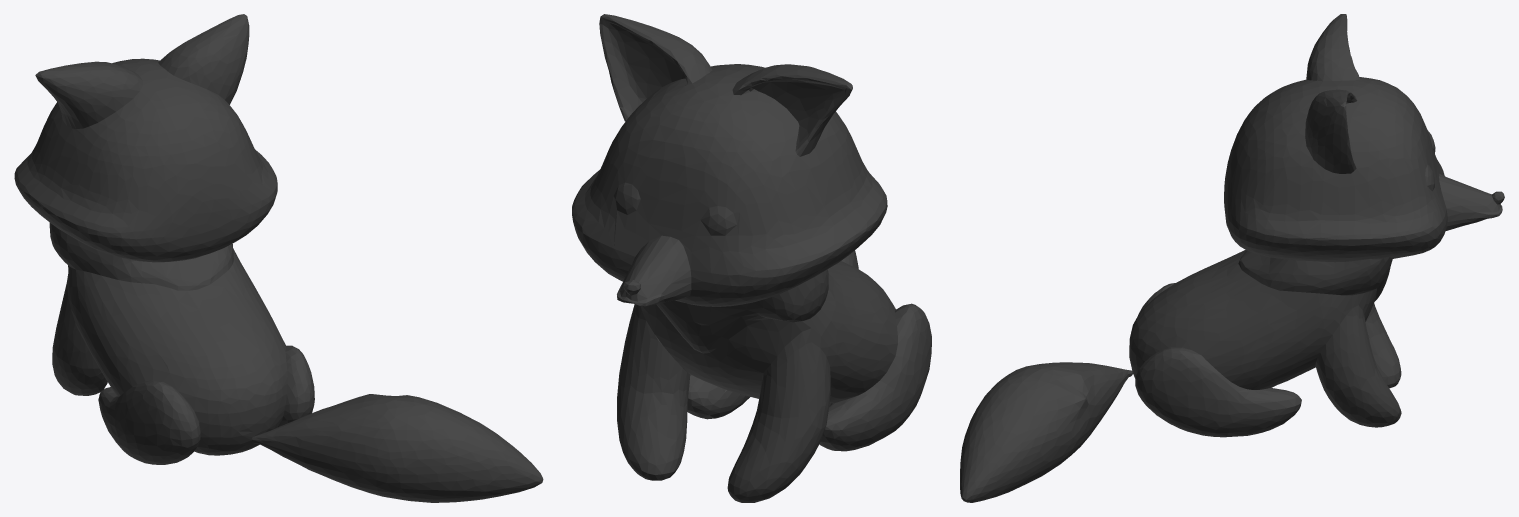
File: original_shape.glb
The picture shows the model from 3 angles, left to right: view 1: azimuth 30°, elevation 25°; view 2: azimuth 150°, elevation 25°; view 3: azimuth 270°, elevation 25°; orthographic projection. The views are drawn at different scales.
Parts seen in each view (by area): view 1: world; view 2: world; view 3: world.
Boxes of the visible parts, x1,y1,x2,y2 form: world: (14, 14, 543, 502); world: (572, 14, 931, 502); world: (960, 14, 1504, 502).
Size of the model in its own units: 0.4963 by 0.5513 by 0.75.
1 material, 1 textured.
